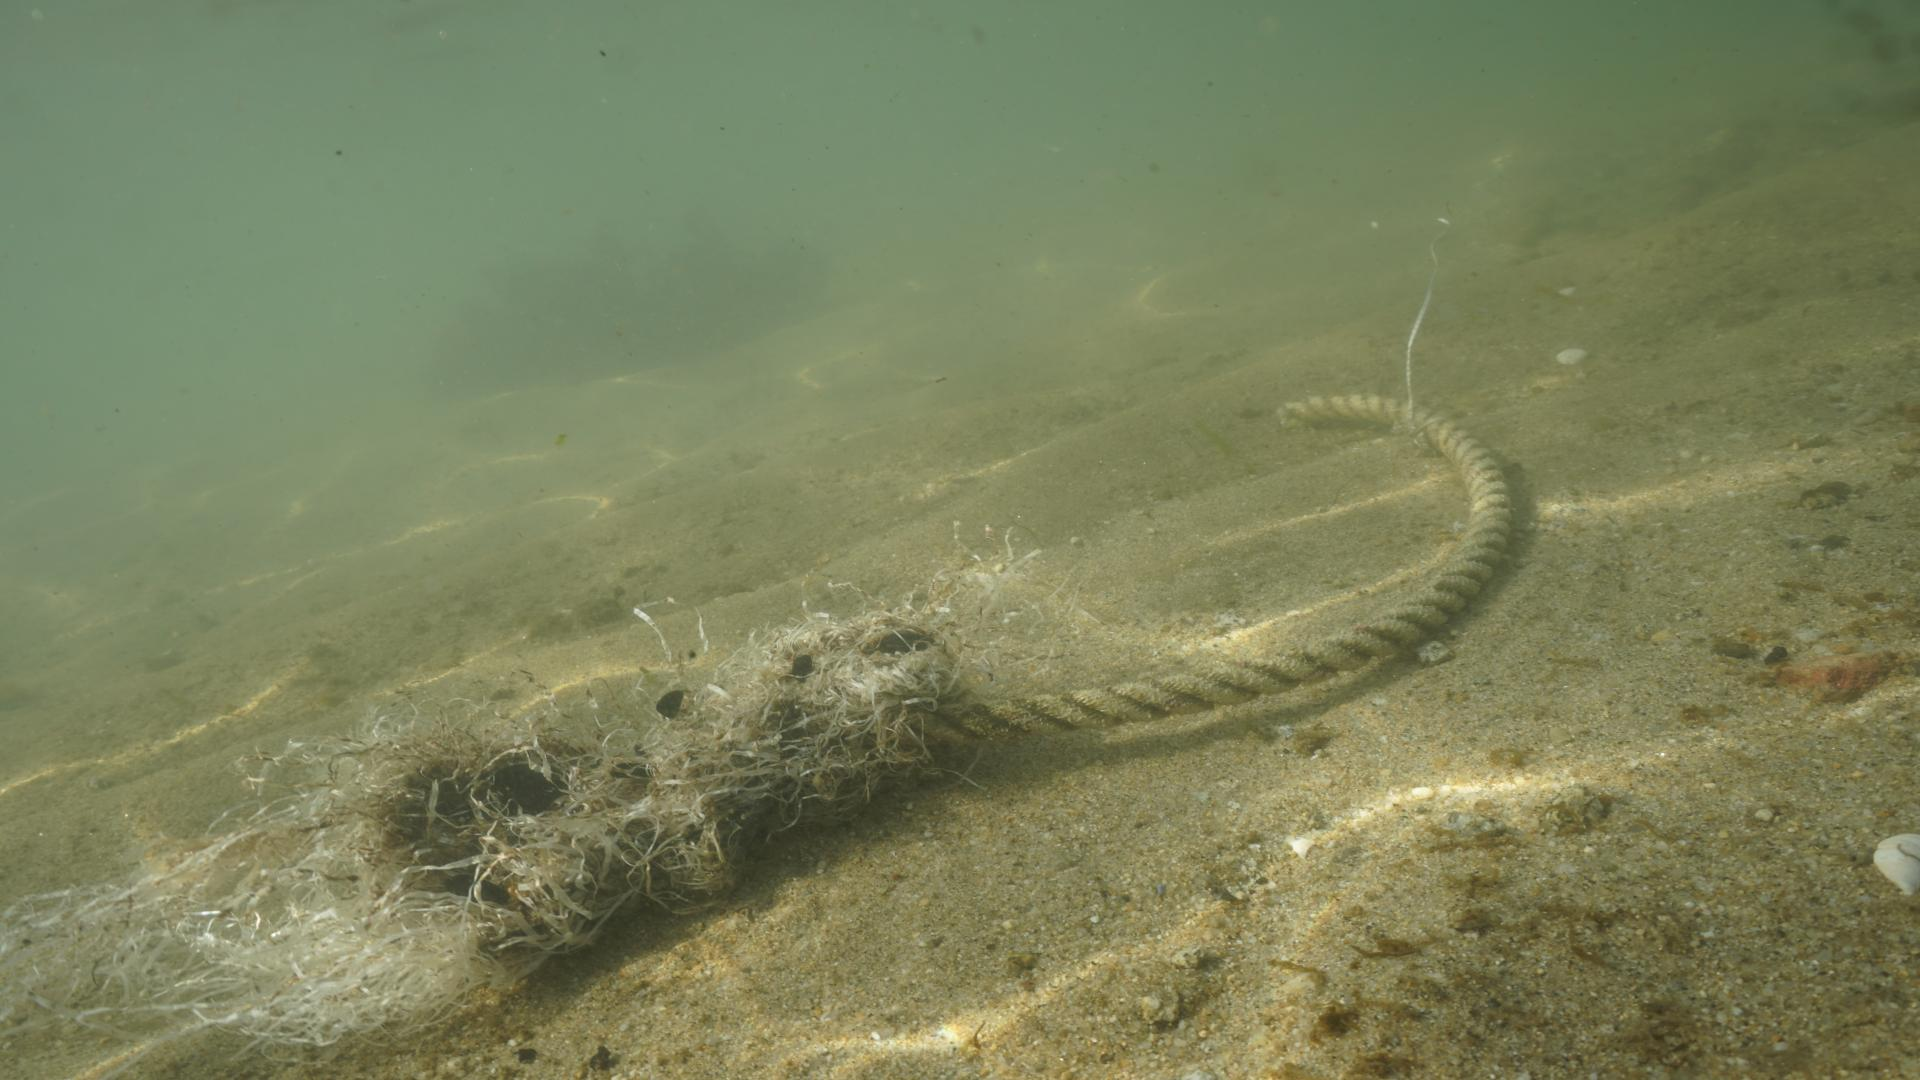rope: (878, 382, 1523, 746)
